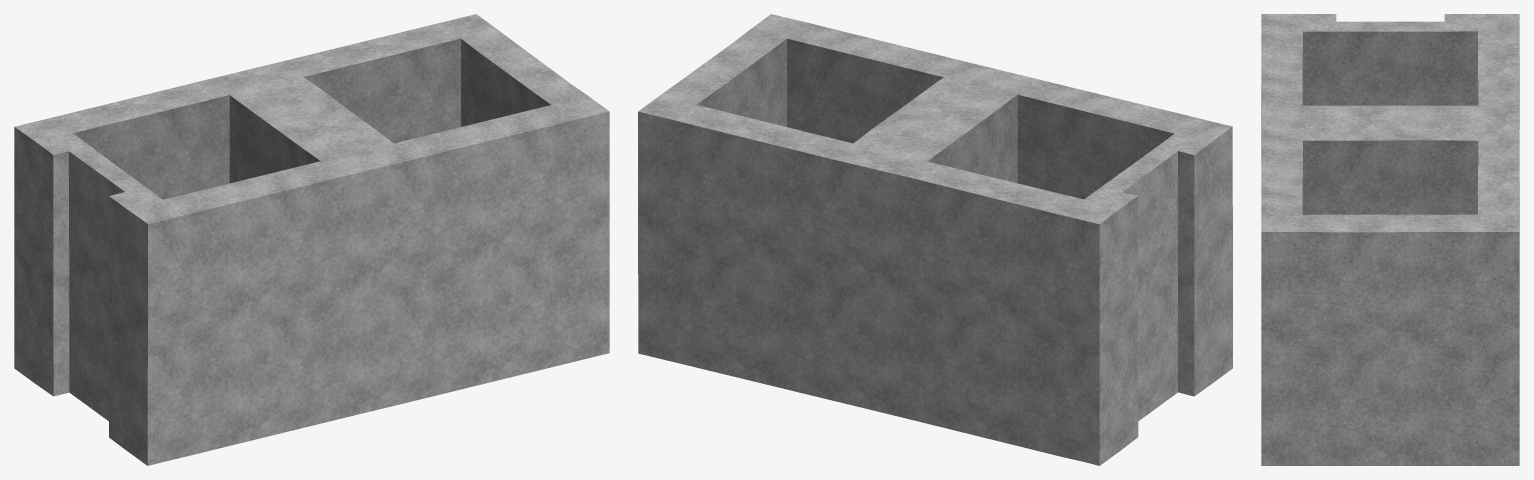
Rendered from cement-block-2-void-interlocking.glb.
3 renders of one model, left to right at view 1: azimuth 30°, elevation 25°; view 2: azimuth 150°, elevation 25°; view 3: azimuth 270°, elevation 25°, orthographic. The views are drawn at different scales.
Visible parts, largest first — view 1: cement-block-2-void-interlocking; view 2: cement-block-2-void-interlocking; view 3: cement-block-2-void-interlocking.
Boxes of the visible parts, x1,y1,x2,y2 form: cement-block-2-void-interlocking: [14, 14, 609, 465]; cement-block-2-void-interlocking: [638, 14, 1232, 465]; cement-block-2-void-interlocking: [1261, 14, 1519, 465].
Bounding box in the file's own units: 0.4002 × 0.2004 × 0.2004.
Materials: 1 (1 with a texture image).
